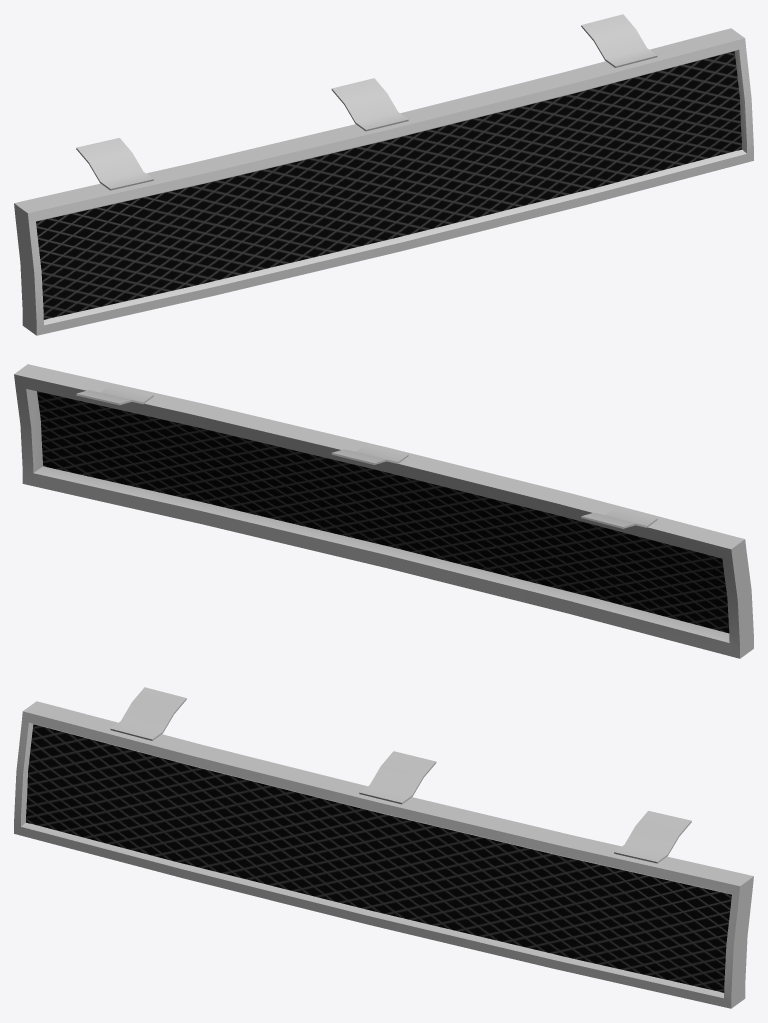
Rendered from etki_grille_mesh.dae.
3 views of the same model, one above another, from view 1: azimuth 30°, elevation 25°; view 2: azimuth 150°, elevation 25°; view 3: azimuth 330°, elevation 25° (orthographic).
Parts seen in each view (by area): view 1: etki_grille_mesh; view 2: etki_grille_mesh; view 3: etki_grille_mesh.
Boxes of the visible parts, box(x1,y1,x2,y2) form: etki_grille_mesh: box(14, 14, 753, 335); etki_grille_mesh: box(14, 364, 753, 658); etki_grille_mesh: box(14, 687, 753, 1008).
Bounding box in the file's own units: 0.7903 × 0.0961 × 0.1412.
